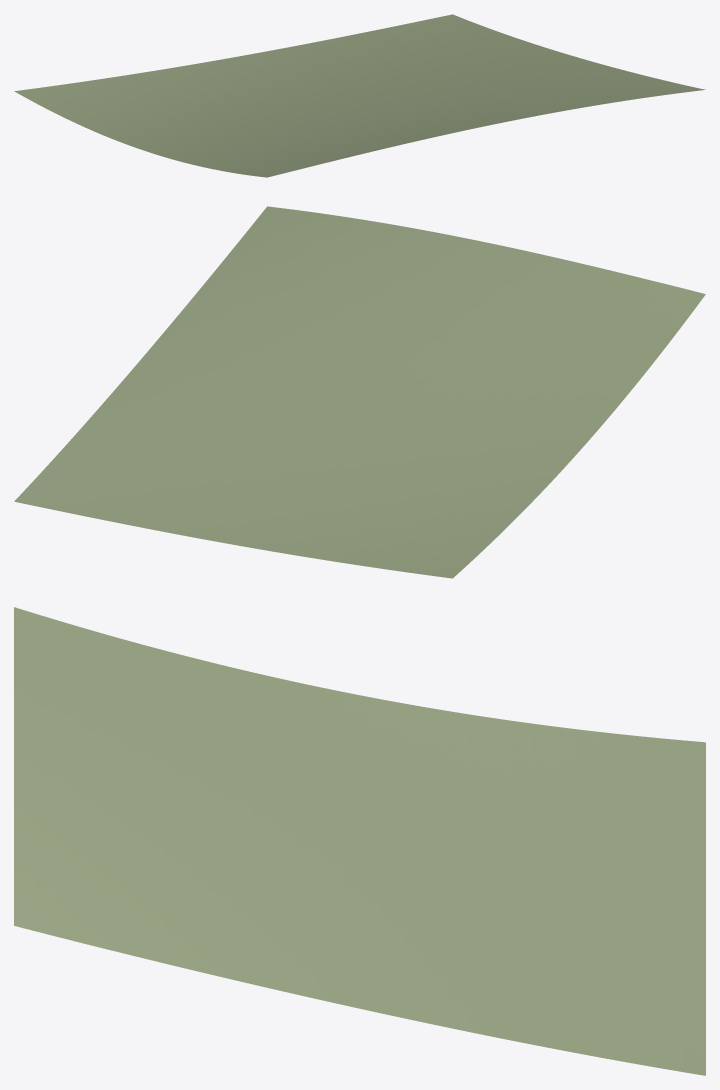
File: alpine-14-5.glb
3 views of the same model, one above another, from view 1: azimuth 30°, elevation 25°; view 2: azimuth 150°, elevation 25°; view 3: azimuth 270°, elevation 25° (orthographic). The views are drawn at different scales.
Parts seen in each view (by area): view 1: alpine-14-5; view 2: alpine-14-5; view 3: alpine-14-5.
Part boxes in pixels (x1,y1,x2,y2): alpine-14-5: (14,14,705,177); alpine-14-5: (14,206,705,578); alpine-14-5: (14,607,705,1075).
Bounding box in the file's own units: 256 × 72.25 × 256.
